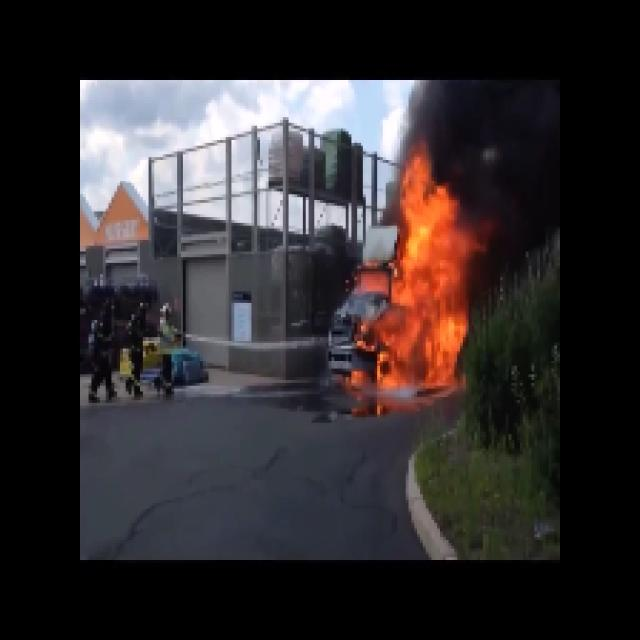fire: (398, 168, 465, 370)
smoke: (476, 82, 555, 237)
